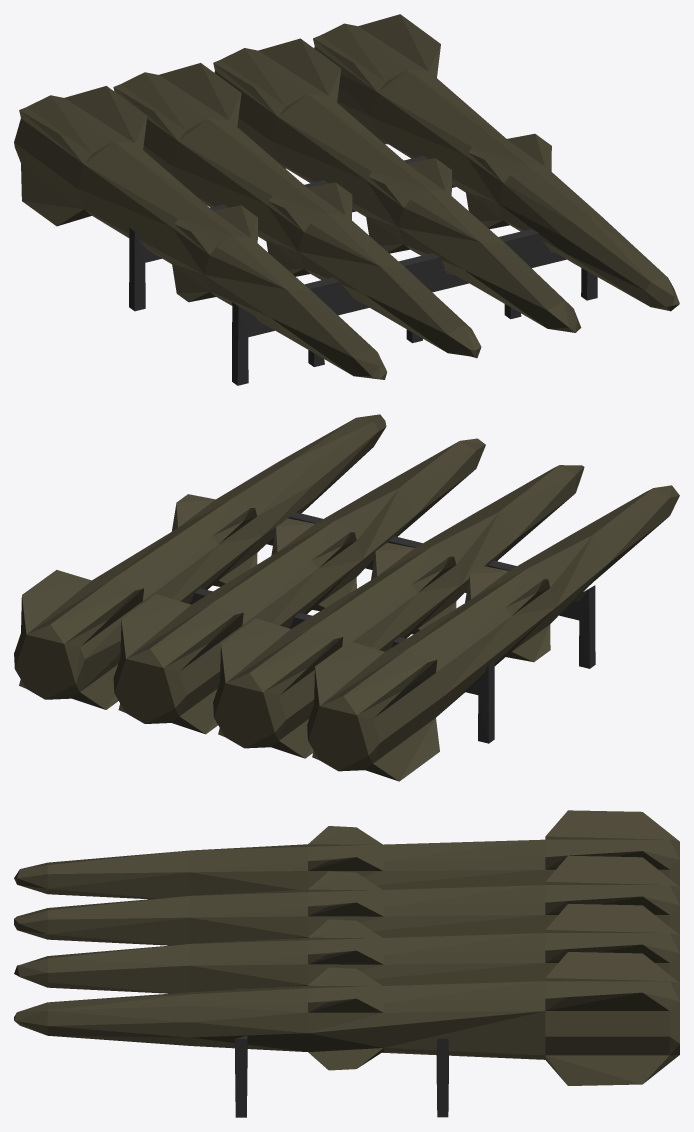
The model's file is mb-missile-rack.lod1.glb.
3 renders of one model, top to bottom at view 1: azimuth 30°, elevation 25°; view 2: azimuth 150°, elevation 25°; view 3: azimuth 270°, elevation 25°, orthographic.
Parts seen in each view (by area): view 1: missile_rack_loaded; view 2: missile_rack_loaded; view 3: missile_rack_loaded.
Part boxes in pixels (bbox=[...]): missile_rack_loaded: bbox=[14, 14, 679, 385]; missile_rack_loaded: bbox=[14, 414, 679, 781]; missile_rack_loaded: bbox=[14, 810, 679, 1117].
Size of the model in its own units: 1.97 by 0.6424 by 3.
